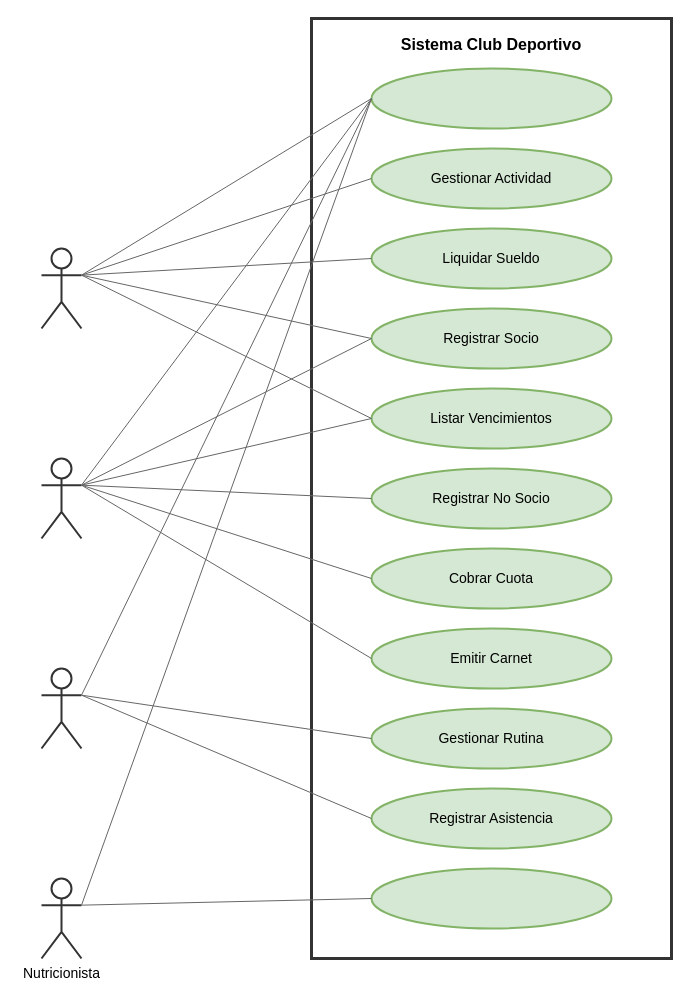
This 690x1000 diagram has some shape labels left out. Each missing label, with the box of its shape:
Administrador: (40, 247, 82, 329)
Asignar Turno Nutrición: (370, 867, 612, 929)
Iniciar Sesión: (370, 67, 612, 129)
Profesor: (40, 667, 82, 749)
Recepcionista: (40, 457, 82, 539)
